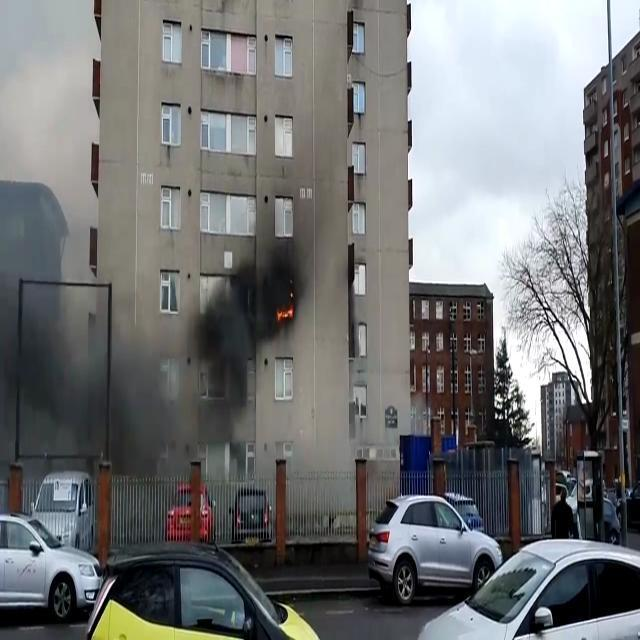Fire: (274, 300, 296, 328)
Smoke: (11, 294, 203, 498), (204, 231, 304, 443)
